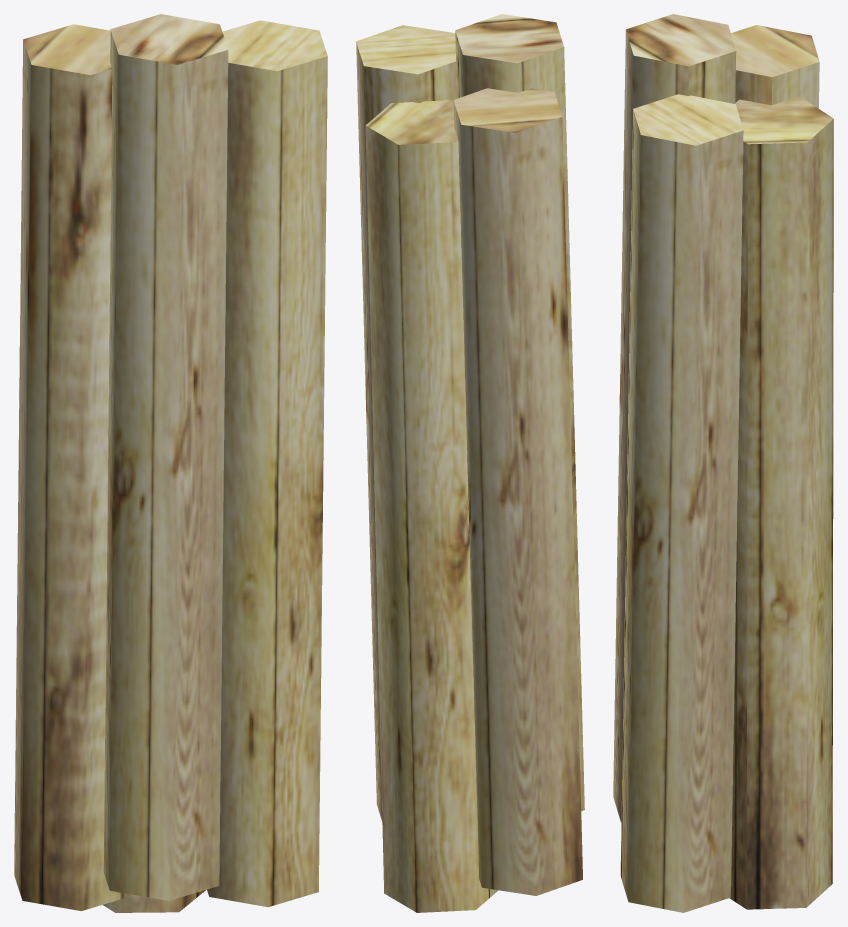
File: carry_wood.glb
The picture shows the model from 3 angles, left to right: view 1: azimuth 30°, elevation 25°; view 2: azimuth 150°, elevation 25°; view 3: azimuth 270°, elevation 25°; orthographic projection. The views are drawn at different scales.
Parts seen in each view (by area): view 1: shuttle_wood_mesh; view 2: shuttle_wood_mesh; view 3: shuttle_wood_mesh.
Boxes of the visible parts, x1,y1,x2,y2 form: shuttle_wood_mesh: [14, 14, 327, 912]; shuttle_wood_mesh: [356, 14, 584, 912]; shuttle_wood_mesh: [613, 14, 833, 912].
Size of the model in its own units: 0.6033 by 1.9 by 0.4536.
Materials: 1 (1 with a texture image).
